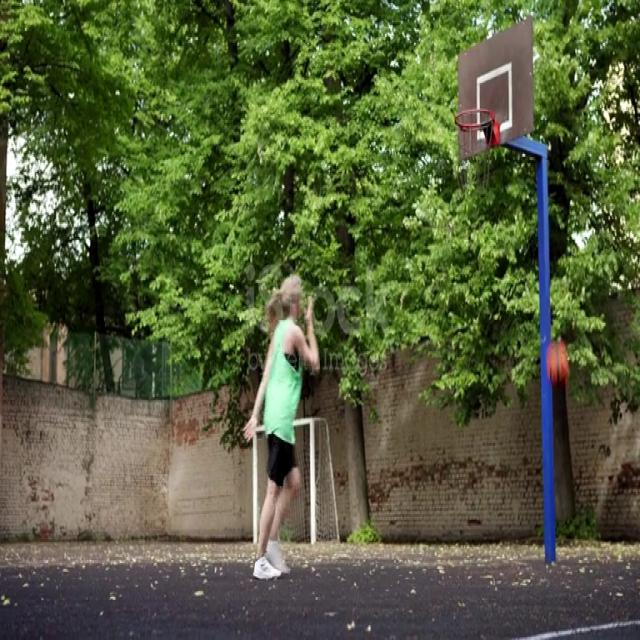ball: (547, 338, 570, 387)
